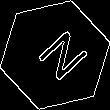N_SW: (23, 23, 87, 87)
